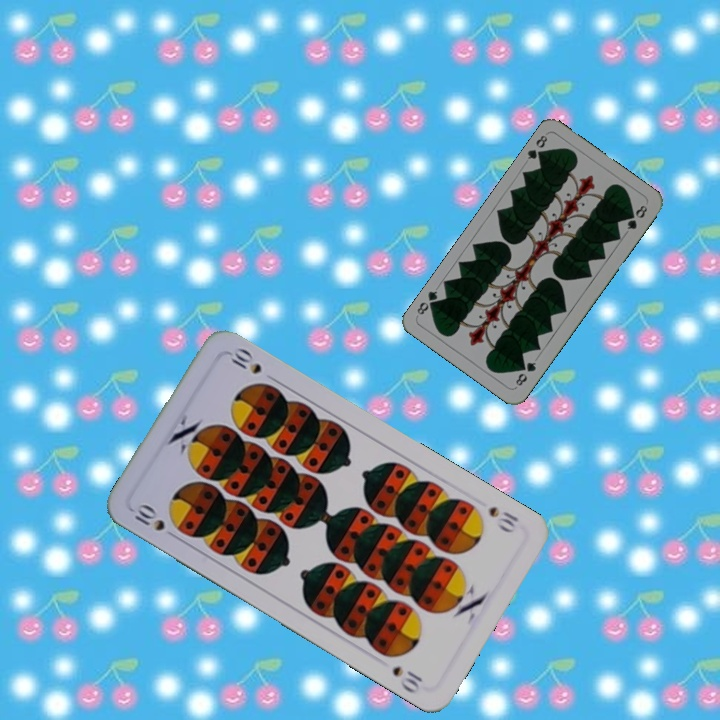G8: (511, 358, 539, 389), (523, 131, 550, 163)
S10: (128, 500, 181, 540), (483, 502, 522, 536)
